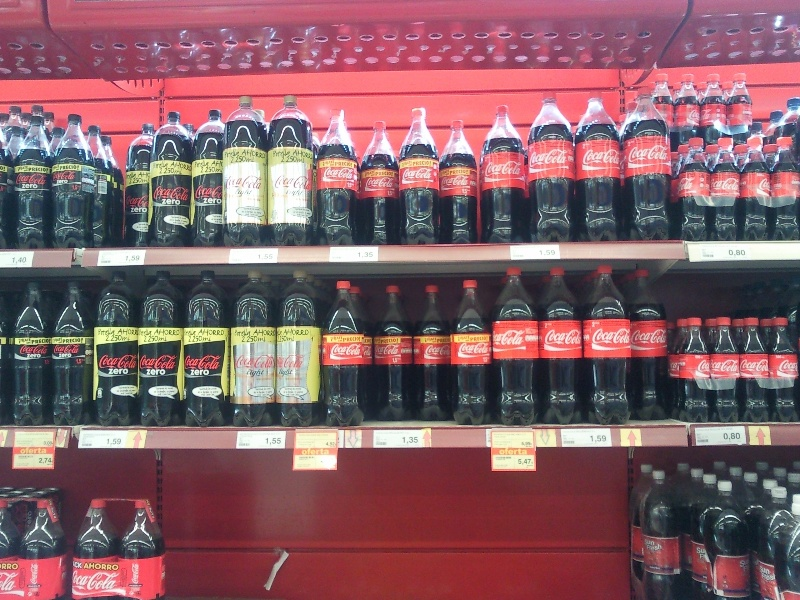lemonade: (528, 264, 595, 430), (582, 255, 641, 433), (614, 85, 678, 247), (177, 267, 239, 434), (441, 271, 504, 430), (488, 264, 548, 430), (131, 263, 191, 429), (87, 270, 148, 432), (361, 280, 423, 428), (475, 102, 537, 247), (573, 89, 627, 247), (6, 279, 59, 431), (50, 280, 102, 431), (527, 90, 577, 245), (320, 279, 369, 436), (398, 104, 451, 247), (45, 110, 98, 253), (355, 115, 410, 250), (412, 277, 459, 434), (313, 107, 362, 252), (434, 113, 486, 249), (733, 313, 780, 431), (704, 316, 749, 428), (673, 315, 716, 426)
